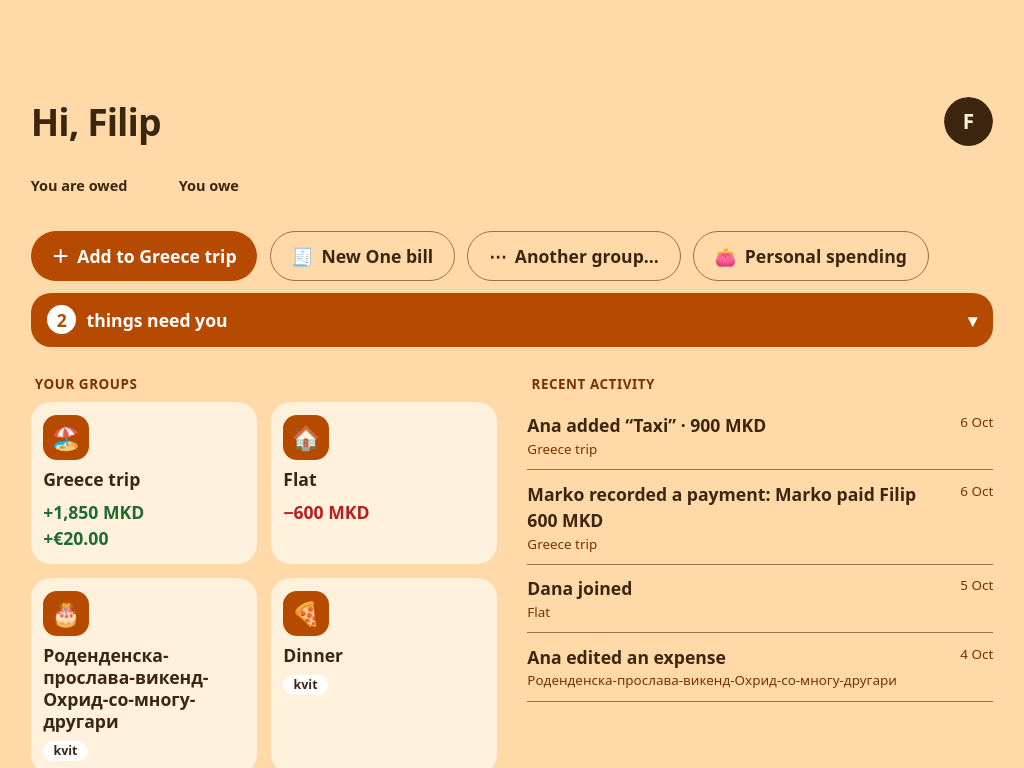
Test: personal spending from the home screen › opens the same sheet from the round button on a desktop-sized window
This screenshot has width=1024, height=768.
Click the button "👛 Personal spending": point(811, 256) [693, 231, 929, 281]
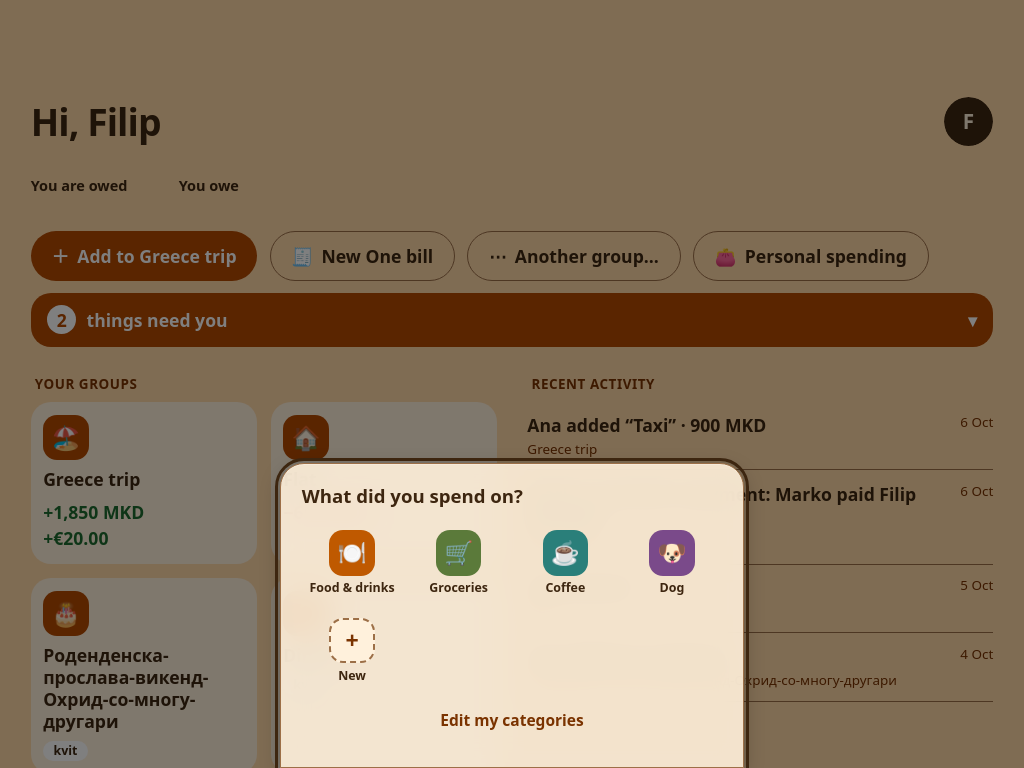
Result: the dialog "What did you spend on?" is shown at [280, 462, 744, 767]
